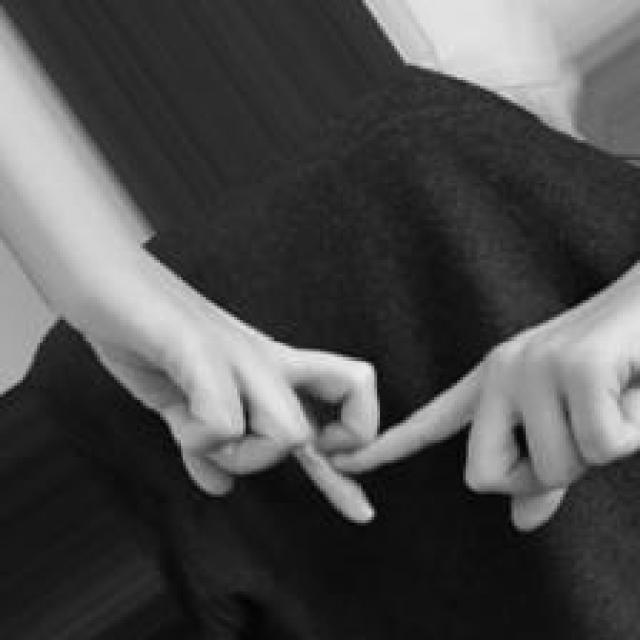R: (126, 246, 640, 542)
